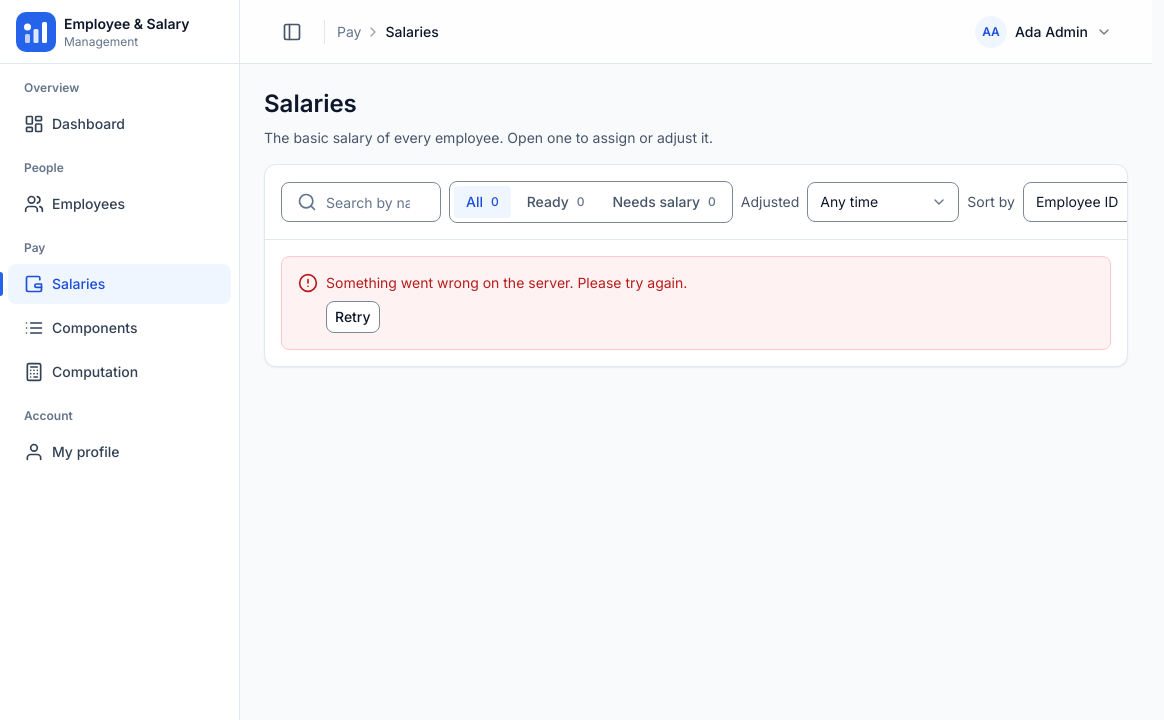
Test: Salaries page › shows a plain error with Retry
The width and height of the screenshot is (1164, 720).
What coordinates should you click on to do the following:
click the button "Retry"
I would click on:
 (353, 317)
Its box is [326,301,380,333].
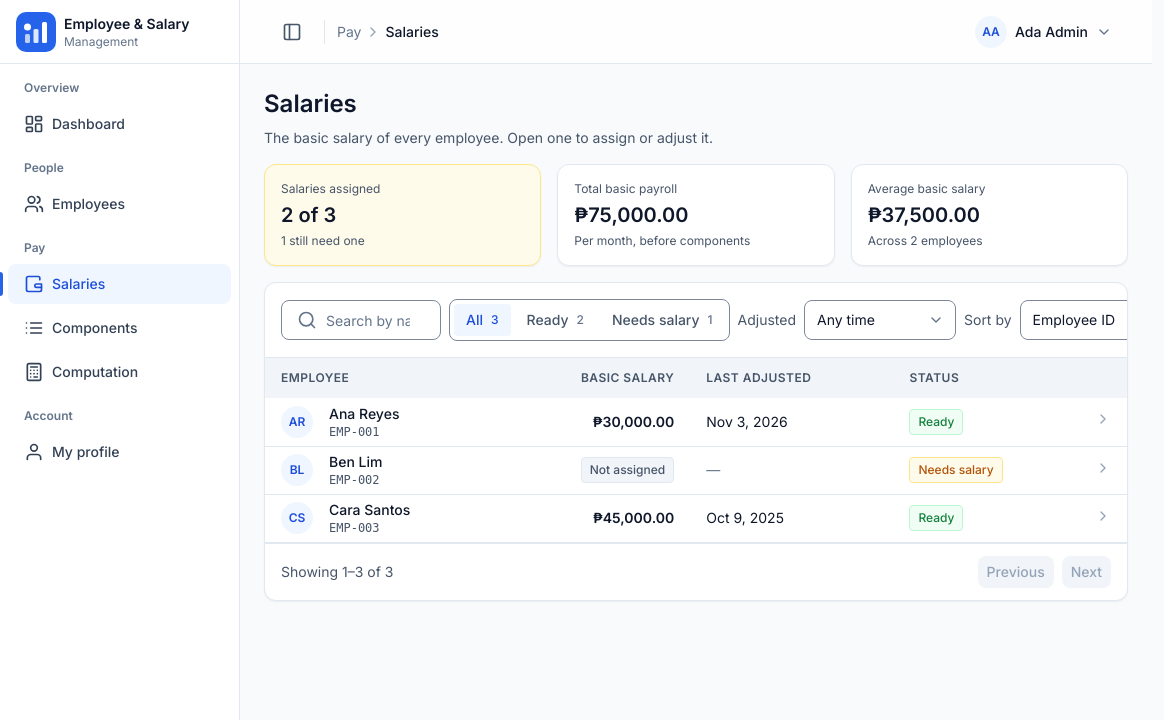
Expected: the table named "Salaries" is shown, [265,358,1127,542]
